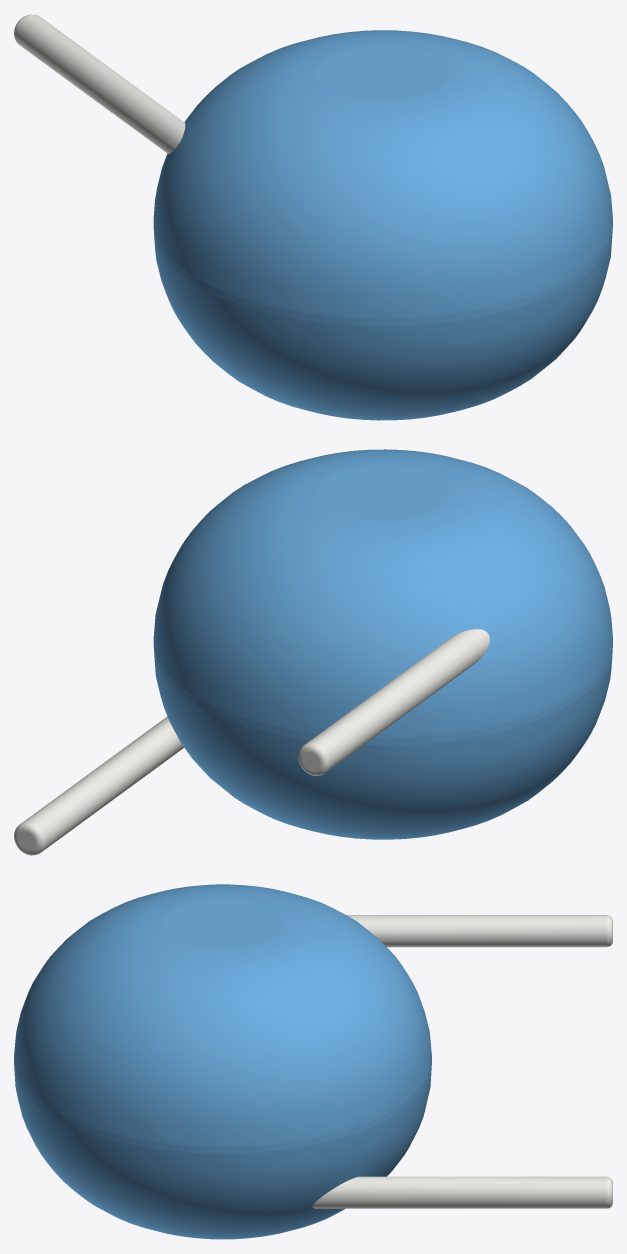
The model's file is RV_Disc_D7mm_W5.1mm_P5mm.glb.
The picture shows the model from 3 angles, top to bottom: view 1: azimuth 30°, elevation 25°; view 2: azimuth 150°, elevation 25°; view 3: azimuth 270°, elevation 25°; orthographic projection. The views are drawn at different scales.
Parts seen in each view (by area): view 1: Shape_IndexedFaceSet.001, Shape_IndexedFaceSet.002, Shape_IndexedFaceSet.004, Shape_IndexedFaceSet.003, Shape_IndexedFaceSet; view 2: Shape_IndexedFaceSet.001, Shape_IndexedFaceSet.002, Shape_IndexedFaceSet.004, Shape_IndexedFaceSet.006, Shape_IndexedFaceSet.003, Shape_IndexedFaceSet, Shape_IndexedFaceSet.008, Shape_IndexedFaceSet.007; view 3: Shape_IndexedFaceSet.001, Shape_IndexedFaceSet.002, Shape_IndexedFaceSet.006, Shape_IndexedFaceSet.004, Shape_IndexedFaceSet.003, Shape_IndexedFaceSet.
Boxes of the visible parts, left/top/right/bottom form: Shape_IndexedFaceSet.001: left=153, top=30, right=612, bottom=318; Shape_IndexedFaceSet.002: left=154, top=238, right=611, bottom=420; Shape_IndexedFaceSet.004: left=15, top=14, right=185, bottom=153; Shape_IndexedFaceSet.003: left=317, top=45, right=449, bottom=101; Shape_IndexedFaceSet: left=153, top=221, right=612, bottom=326; Shape_IndexedFaceSet.001: left=153, top=449, right=612, bottom=737; Shape_IndexedFaceSet.002: left=154, top=657, right=612, bottom=839; Shape_IndexedFaceSet.004: left=306, top=629, right=489, bottom=771; Shape_IndexedFaceSet.006: left=21, top=716, right=184, bottom=851; Shape_IndexedFaceSet.003: left=317, top=464, right=449, bottom=520; Shape_IndexedFaceSet: left=153, top=640, right=612, bottom=745; Shape_IndexedFaceSet.008: left=14, top=822, right=45, bottom=855; Shape_IndexedFaceSet.007: left=298, top=742, right=329, bottom=775; Shape_IndexedFaceSet.001: left=14, top=884, right=431, bottom=1146; Shape_IndexedFaceSet.002: left=14, top=1068, right=431, bottom=1239; Shape_IndexedFaceSet.006: left=312, top=1176, right=606, bottom=1208; Shape_IndexedFaceSet.004: left=346, top=915, right=606, bottom=947; Shape_IndexedFaceSet.003: left=162, top=898, right=283, bottom=949; Shape_IndexedFaceSet: left=14, top=1058, right=431, bottom=1153.
Bounding box in the file's own units: 2.75 × 2.01 × 3.95.
